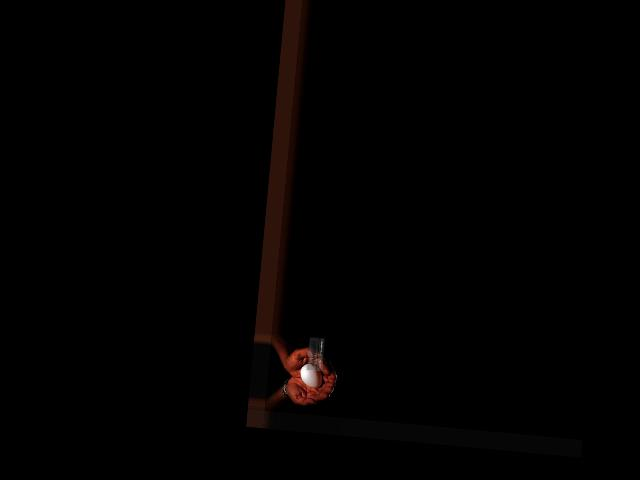egg: (299, 364, 324, 389)
